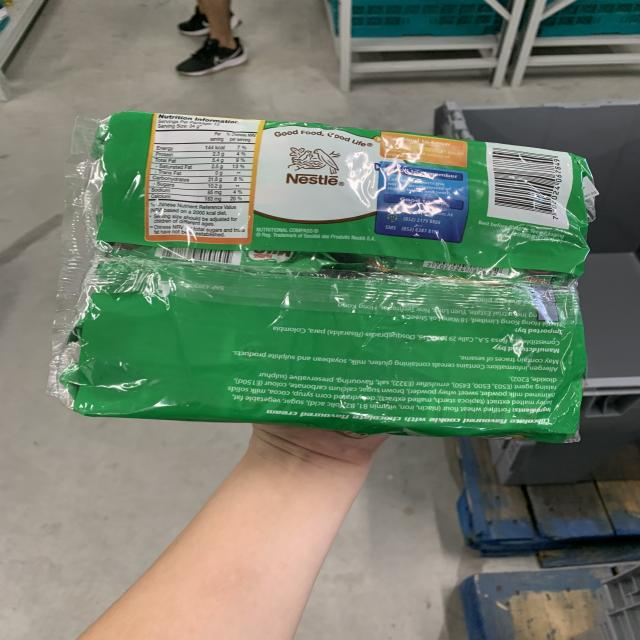object_name: (75, 114, 576, 441)
